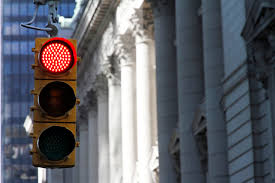red: (28, 33, 82, 172), (35, 37, 75, 164)
